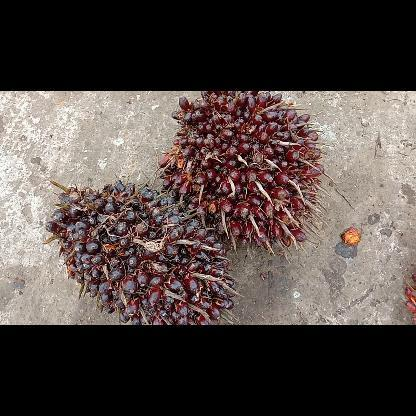Kurang masak: (45, 181, 237, 324)
TBS masak: (160, 91, 322, 256)
